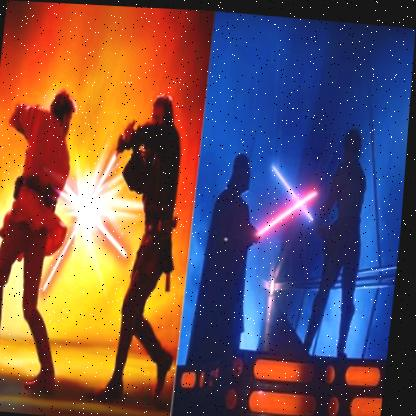lightsaber: (41, 141, 123, 302), (45, 180, 136, 260), (263, 161, 333, 240)
sith_lightsaber: (239, 180, 320, 256)
